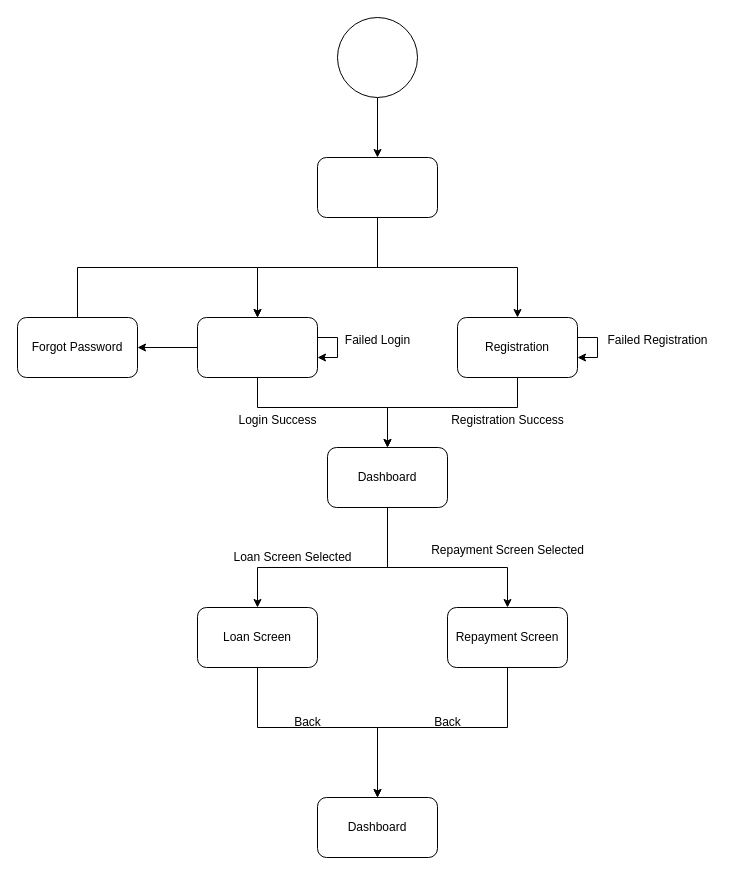
The diagram is 735 pixels wide and 875 high, and some of its shapes have lost their labels. Each missing label, with the box of its shape:
Login: (196, 316, 318, 378)
Screen: (316, 156, 438, 218)
